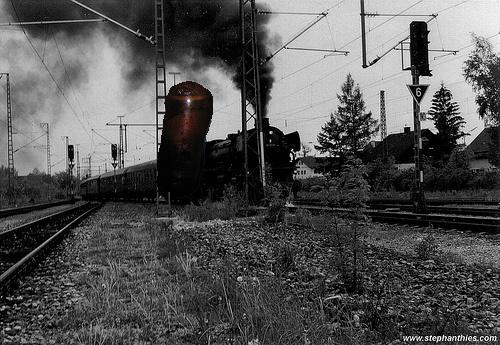tampered: (157, 82, 213, 192)
